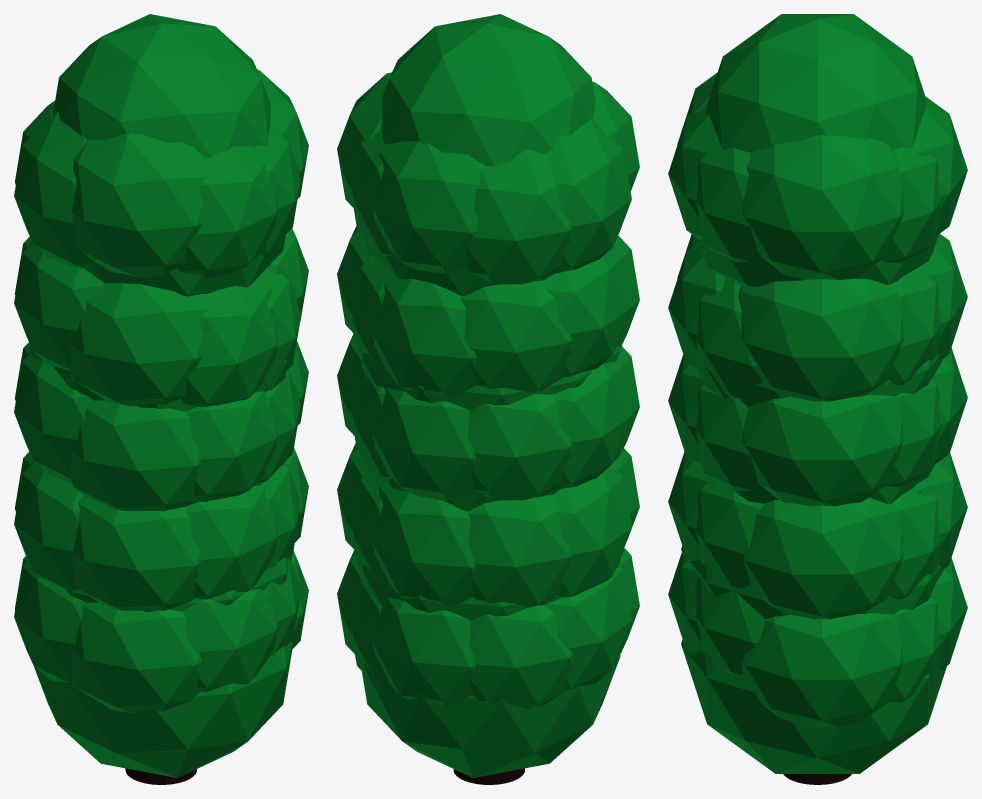
The model's file is High_High_Leaf_Tree.glb.
3 renders of one model, left to right at view 1: azimuth 30°, elevation 25°; view 2: azimuth 150°, elevation 25°; view 3: azimuth 270°, elevation 25°, orthographic.
Parts seen in each view (by area): view 1: Icosphere, Icosphere.006, Icosphere.029, Icosphere.026, Icosphere.027, Icosphere.036, Icosphere.037, Icosphere.004, Icosphere.024, Icosphere.034, Icosphere.001, Icosphere.025 (+20 smaller); view 2: Icosphere, Icosphere.029, Icosphere.003, Icosphere.008, Icosphere.014, Icosphere.016, Icosphere.040, Icosphere.042, Icosphere.015, Icosphere.017, Icosphere.001, Icosphere.041 (+25 smaller); view 3: Icosphere, Icosphere.002, Icosphere.020, Icosphere.030, Icosphere.021, Icosphere.031, Icosphere.029, Icosphere.009, Icosphere.022, Icosphere.032, Icosphere.023, Icosphere.007 (+21 smaller).
Part boxes in pixels (x1,y1,x2,y2): Icosphere: (52,14,270,157); Icosphere.006: (72,133,209,277); Icosphere.029: (34,642,292,777); Icosphere.026: (70,283,209,406); Icosphere.027: (70,400,201,511); Icosphere.036: (72,496,201,610); Icosphere.037: (71,602,202,713); Icosphere.004: (177,146,277,277); Icosphere.024: (181,278,277,406); Icosphere.034: (185,479,277,599); Icosphere.001: (14,112,95,269); Icosphere.025: (185,391,277,501); Icosphere: (381,14,595,166); Icosphere.029: (362,653,620,777); Icosphere.003: (372,141,485,273); Icosphere.008: (466,150,572,284); Icosphere.014: (460,280,573,392); Icosphere.016: (372,272,477,397); Icosphere.040: (468,494,572,607); Icosphere.042: (372,482,475,605); Icosphere.015: (468,394,572,500); Icosphere.017: (372,388,475,501); Icosphere.001: (544,118,631,273); Icosphere.041: (469,605,573,708); Icosphere: (706,14,926,152); Icosphere.002: (742,134,904,279); Icosphere.020: (738,278,903,401); Icosphere.030: (743,497,903,619); Icosphere.021: (742,394,903,506); Icosphere.031: (741,613,903,727); Icosphere.029: (681,639,946,773); Icosphere.009: (696,139,757,262); Icosphere.022: (696,277,762,399); Icosphere.032: (696,482,763,588); Icosphere.023: (696,384,757,491); Icosphere.007: (882,142,940,262).
Bounding box in the file's own units: 8.54 × 22.93 × 8.29.
